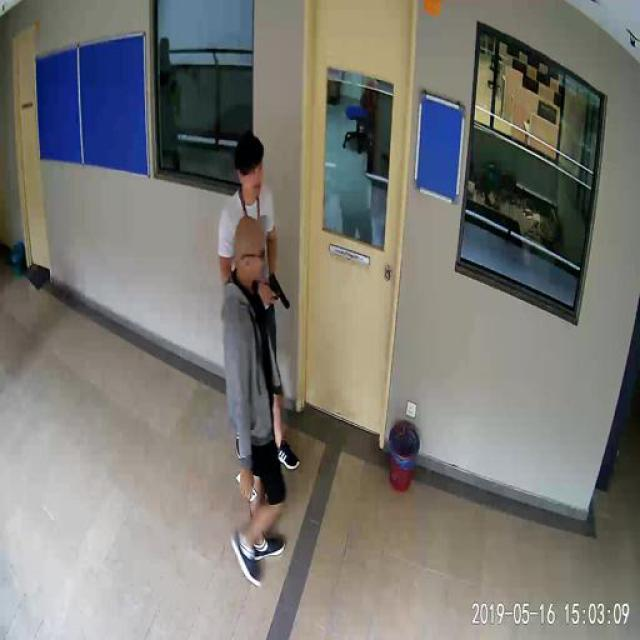Gun: (266, 272, 288, 306)
